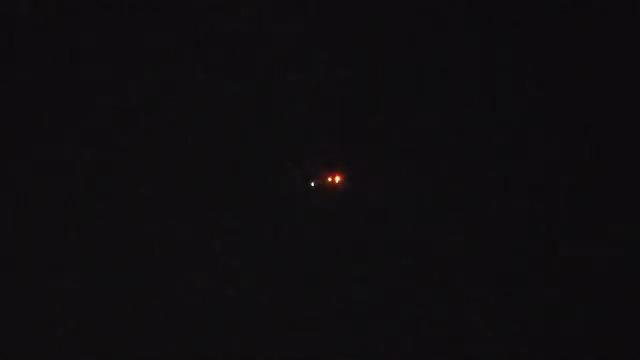Plane: (295, 168, 368, 194)
